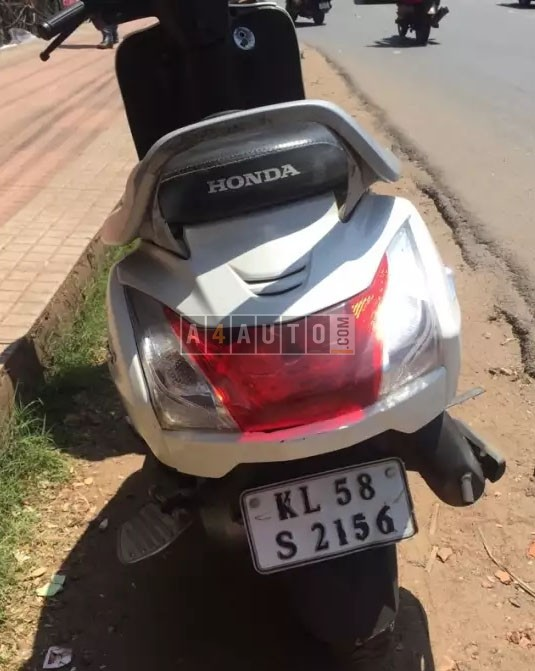doublelinenumberplate: (239, 453, 419, 576)
